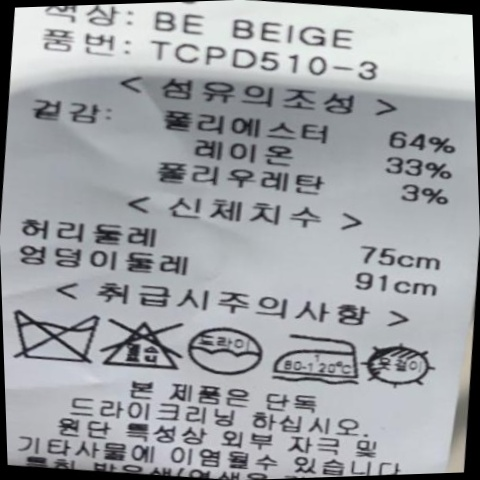DN_wash: (6, 304, 108, 376)
dry_clean: (187, 321, 268, 385)
iron_low: (273, 323, 366, 390)
line_dry_in_shade: (364, 330, 442, 398)
non_chlorine_bleach: (101, 308, 192, 381)
